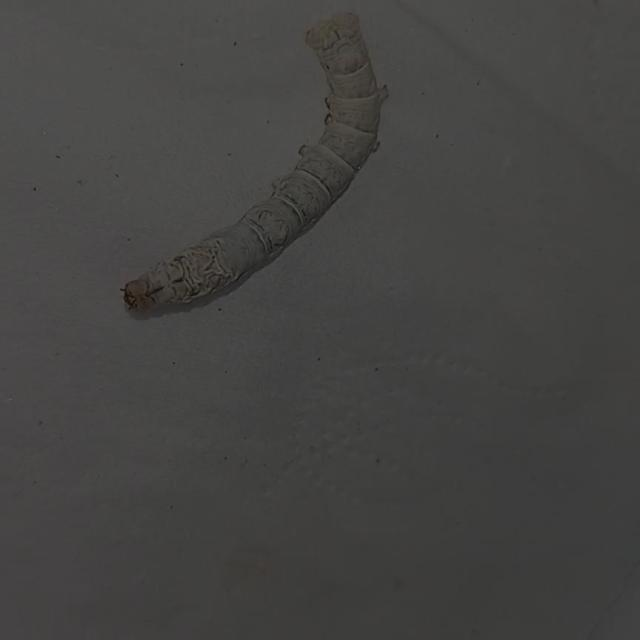Healthy: (70, 2, 457, 353)
